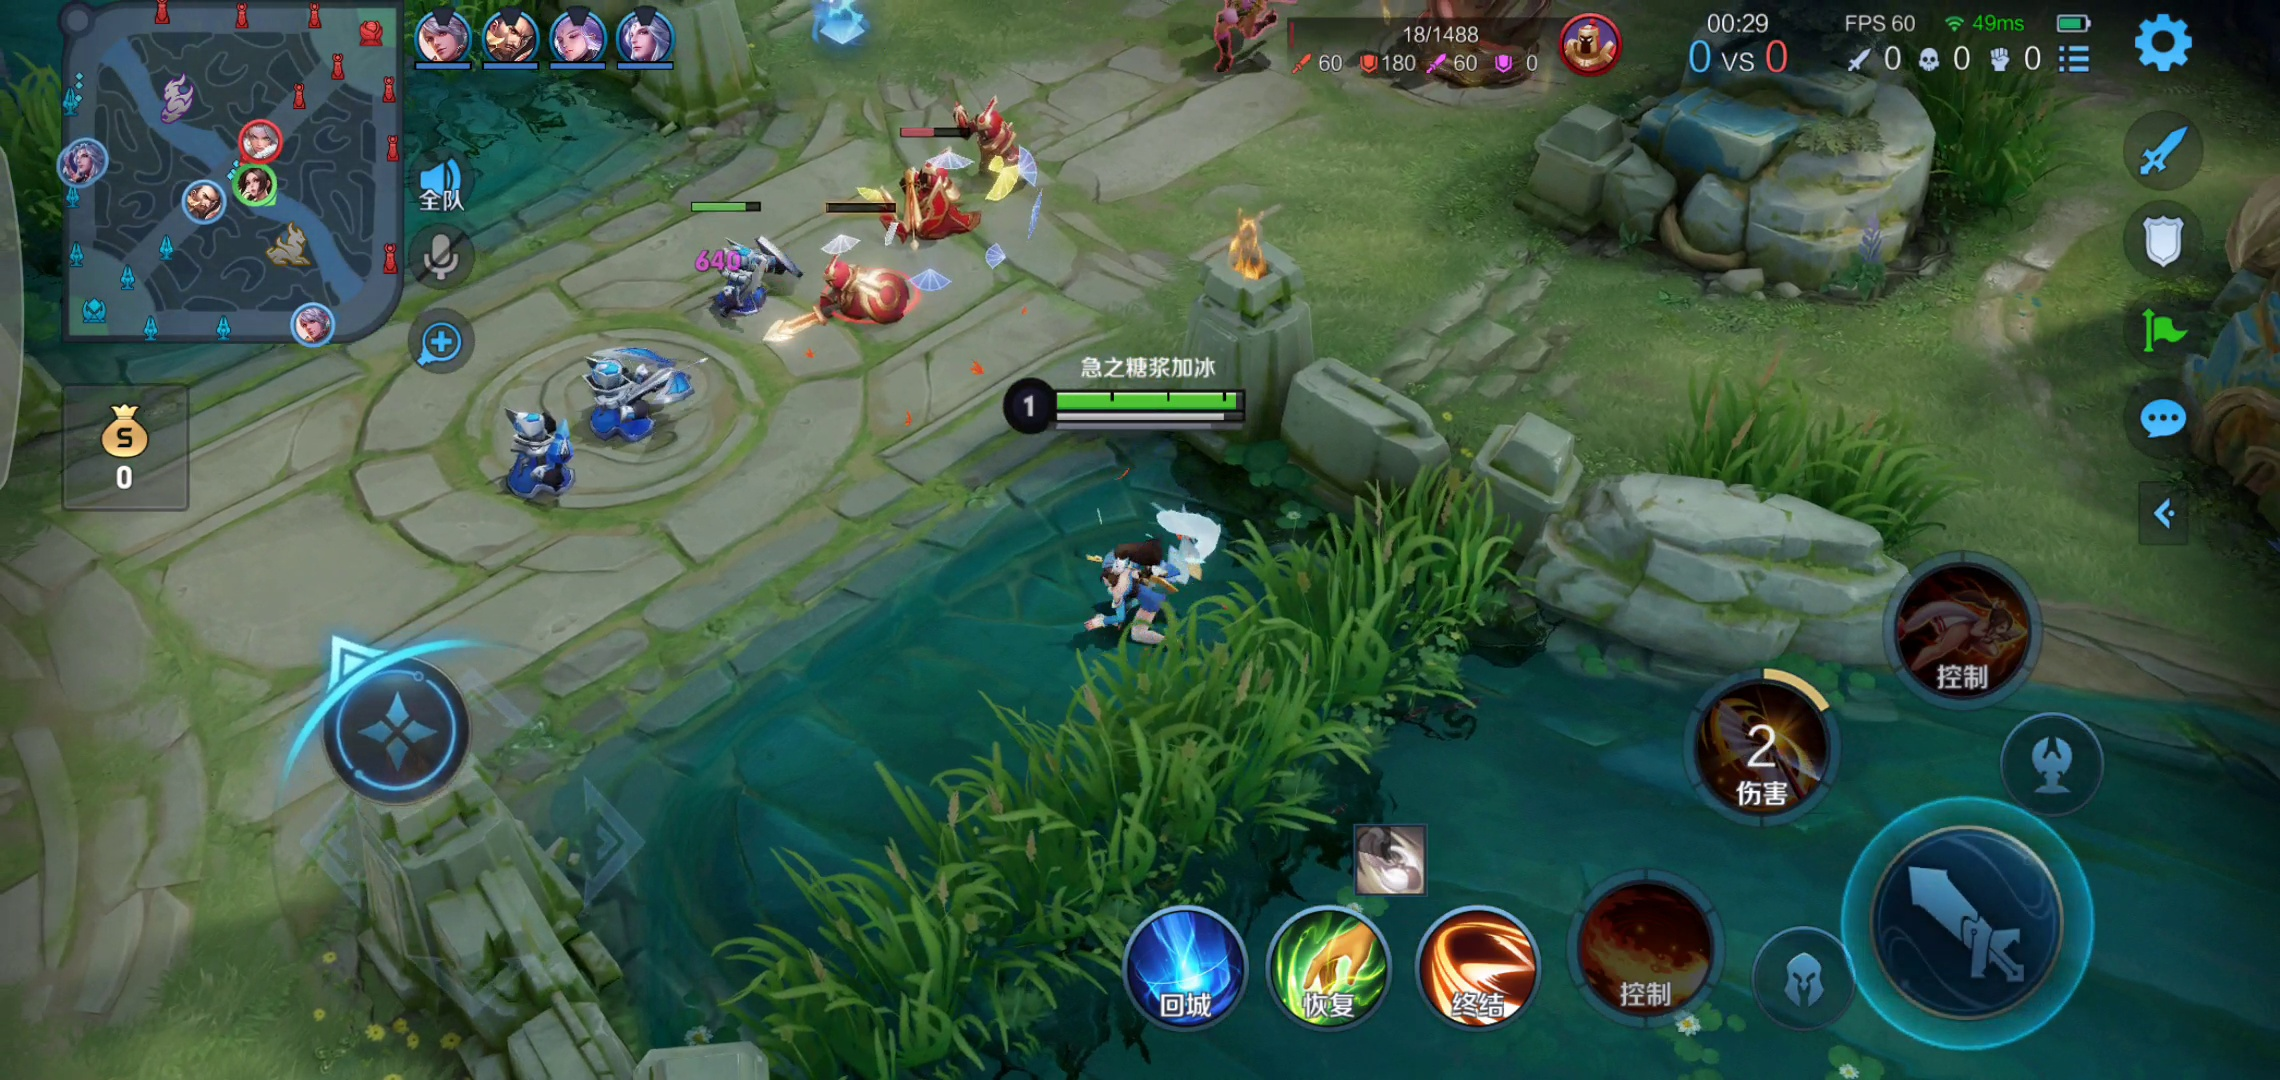grass: (736, 501, 1520, 1071), (1634, 376, 1959, 542), (1899, 64, 2060, 240)
hero: (1061, 516, 1221, 666), (1201, 1, 1282, 103)
soldier: (941, 92, 1067, 198), (563, 342, 691, 446), (867, 167, 995, 251), (814, 243, 912, 343), (689, 230, 788, 317), (497, 406, 585, 503)
tower: (1416, 1, 1547, 103)
